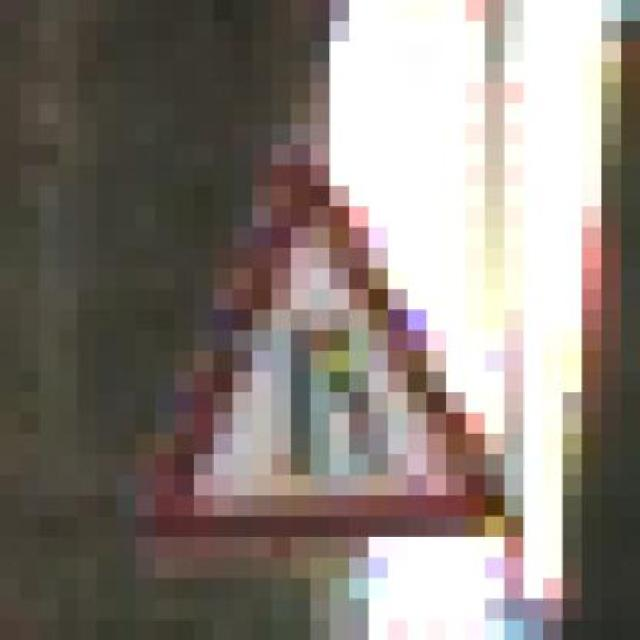-Road narrows on right: (144, 124, 531, 558)
